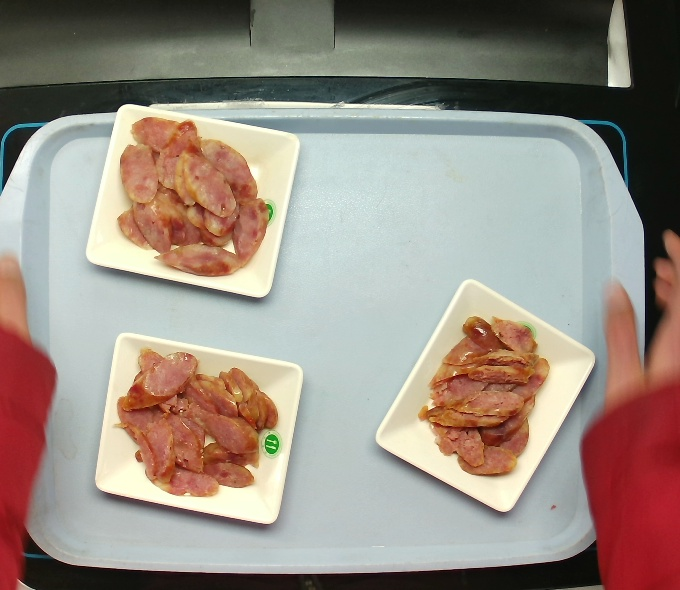wcq-QiePianXiangChang: (111, 114, 266, 280), (124, 341, 279, 507), (419, 315, 558, 484)
